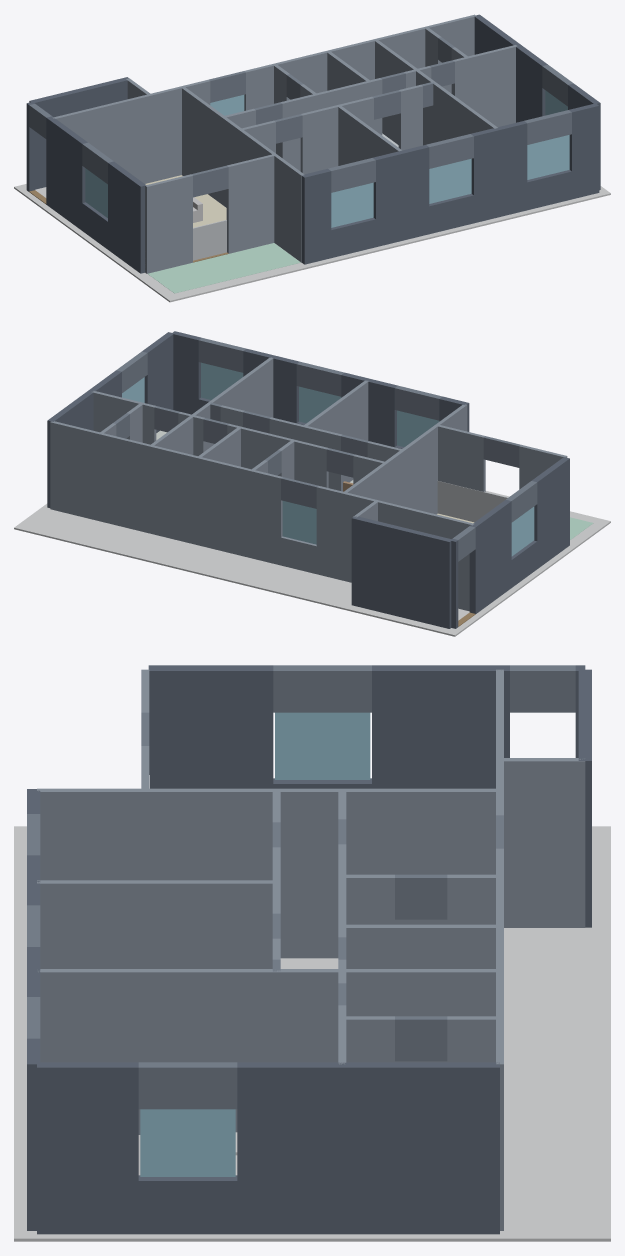
The model's file is actual_uploaded_3bhk_v1.glb.
The picture shows the model from 3 angles, top to bottom: view 1: azimuth 30°, elevation 25°; view 2: azimuth 150°, elevation 25°; view 3: azimuth 270°, elevation 25°; orthographic projection. The views are drawn at different scales.
Parts seen in each view (by area): view 1: wall_post_004_00, wall_008_w9, wall_post_004_final, wall_post_000_01, wall_post_000_02, wall_post_001_final, wall_post_001_00, floor_slab, wall_012_w13, wall_post_003_final, wall_post_006_01, room_finish_001_balcony (+40 smaller); view 2: wall_post_004_final, floor_slab, wall_005_w6, wall_post_004_00, wall_008_w9, wall_post_006_01, wall_012_w13, wall_post_006_00, wall_post_003_01, wall_post_001_final, wall_010_w11, wall_post_000_01 (+36 smaller); view 3: wall_post_014_final, wall_008_w9, floor_slab, wall_012_w13, wall_010_w11, wall_post_014_00, wall_post_006_01, wall_post_006_00, wall_007_w8, wall_011_w12, glass_pane_win5, glass_pane_win4 (+16 smaller).
Part boxes in pixels (x1=…): wall_post_004_00: x1=52, y1=79, x2=210, y2=183; wall_008_w9: x1=182, y1=87, x2=304, y2=262; wall_post_004_final: x1=244, y1=14, x2=476, y2=110; wall_post_000_01: x1=372, y1=145, x2=429, y2=247; wall_post_000_02: x1=471, y1=121, x2=527, y2=223; wall_post_001_final: x1=226, y1=154, x2=274, y2=253; wall_post_001_00: x1=145, y1=174, x2=192, y2=273; floor_slab: x1=14, y1=184, x2=610, y2=302; wall_012_w13: x1=375, y1=40, x2=497, y2=145; wall_post_003_final: x1=453, y1=45, x2=517, y2=127; wall_post_006_01: x1=46, y1=116, x2=87, y2=230; room_finish_001_balcony: x1=148, y1=243, x2=300, y2=293; wall_post_004_final: x1=50, y1=421, x2=282, y2=565; floor_slab: x1=14, y1=481, x2=610, y2=636; wall_005_w6: x1=351, y1=516, x2=452, y2=628; wall_post_004_00: x1=316, y1=486, x2=474, y2=611; wall_008_w9: x1=344, y1=404, x2=467, y2=514; wall_post_006_01: x1=469, y1=499, x2=511, y2=613; wall_012_w13: x1=150, y1=357, x2=273, y2=454; wall_post_006_00: x1=531, y1=457, x2=569, y2=568; wall_post_003_01: x1=227, y1=423, x2=328, y2=487; wall_post_001_final: x1=438, y1=425, x2=485, y2=491; wall_010_w11: x1=303, y1=380, x2=368, y2=482; wall_post_000_01: x1=341, y1=372, x2=397, y2=447; wall_post_014_final: x1=237, y1=1062, x2=499, y2=1234; wall_008_w9: x1=37, y1=788, x2=499, y2=958; floor_slab: x1=14, y1=826, x2=610, y2=1241; wall_012_w13: x1=38, y1=969, x2=499, y2=1134; wall_010_w11: x1=37, y1=880, x2=276, y2=968; wall_post_014_00: x1=37, y1=1062, x2=138, y2=1234; wall_post_006_01: x1=372, y1=665, x2=509, y2=788; wall_post_006_00: x1=148, y1=665, x2=273, y2=788; wall_007_w8: x1=500, y1=758, x2=585, y2=927; wall_011_w12: x1=342, y1=924, x2=499, y2=968; glass_pane_win5: x1=140, y1=1109, x2=235, y2=1176; glass_pane_win4: x1=275, y1=712, x2=370, y2=779.
Bounding box in the file's own units: 14.85 × 2.85 × 9.09.
